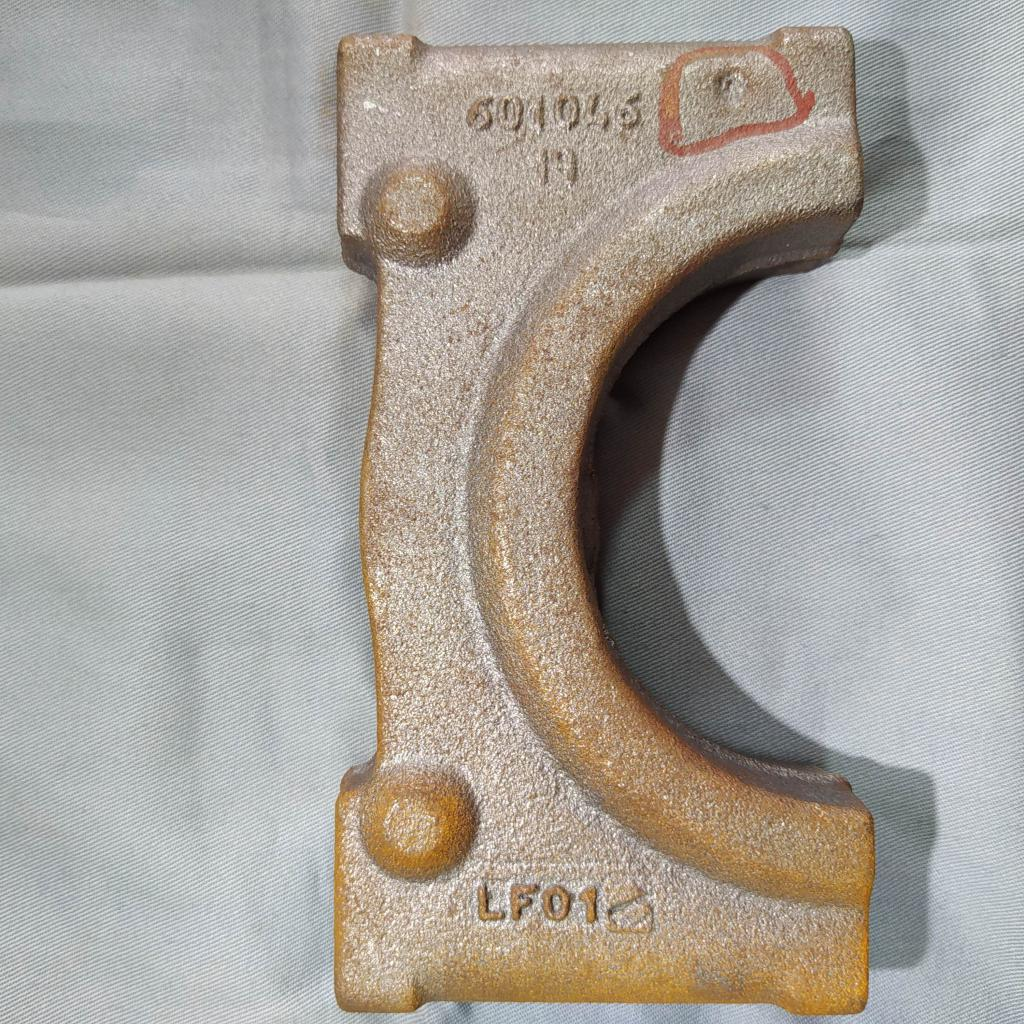buraco: (710, 61, 757, 111)
